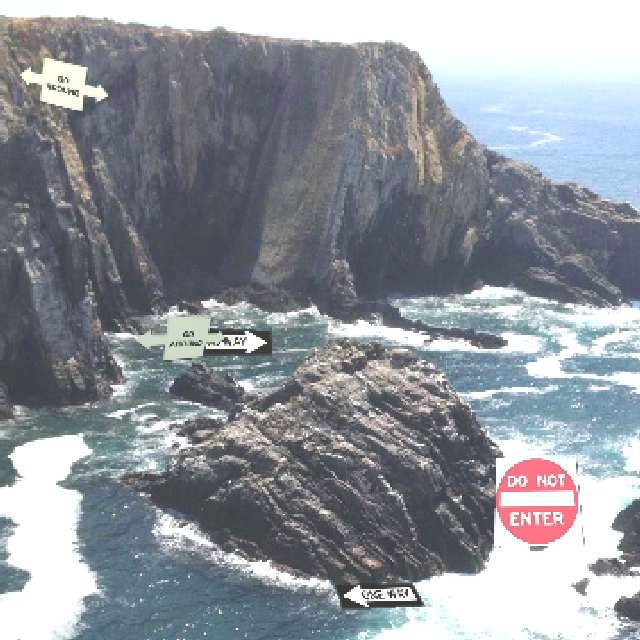DO_NOT_ENTER: (492, 455, 583, 545)
GO_AROUND: (17, 55, 108, 111), (133, 313, 224, 360)
ONE_WAY_ left: (333, 580, 424, 608)
ONE_WAY_ right: (180, 325, 271, 354)
